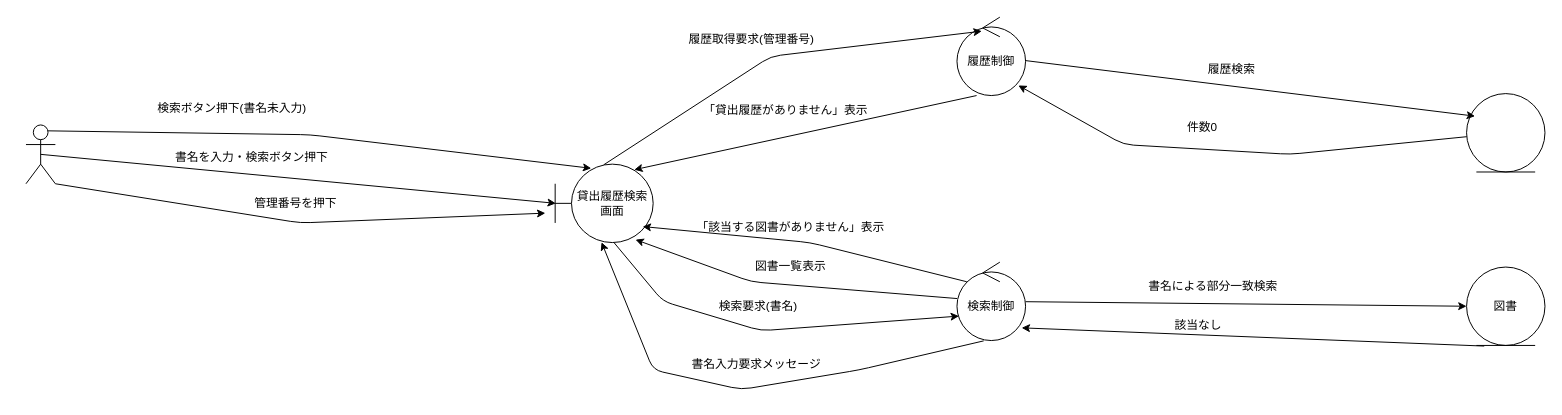
The diagram is 1562 pixels wide and 415 high, and some of its shapes have lost their labels. Each missing label, with the centre of its shape:
事務職員: pixel 40 154
貸出履歴: pixel 1505 132
